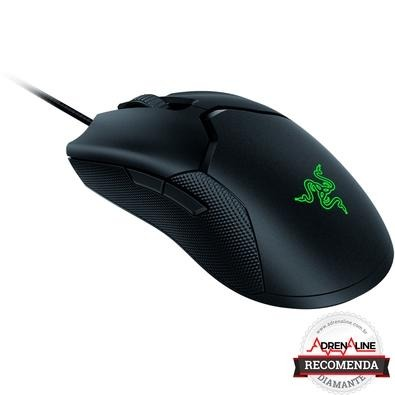mouse: (63, 88, 395, 308)
